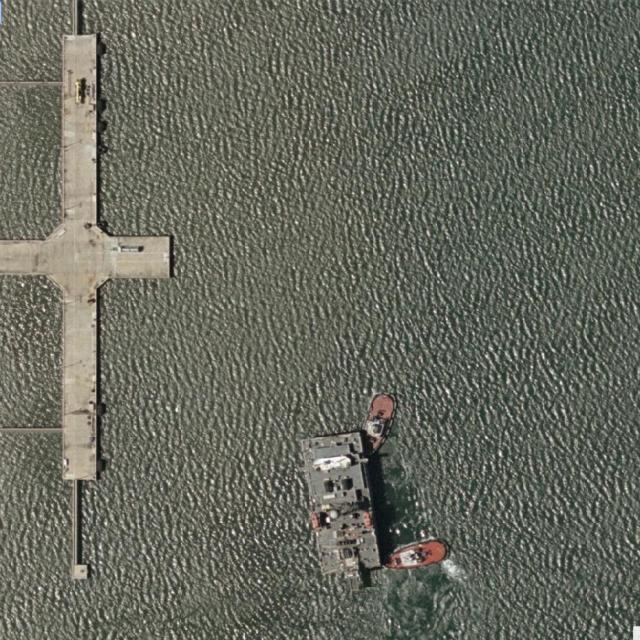Dock: (61, 34, 97, 489)
Hovercraft: (355, 387, 402, 460), (381, 536, 451, 573)
